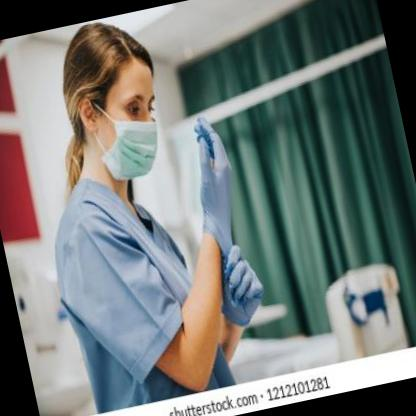Gloves: (177, 111, 248, 260), (207, 239, 271, 329)
